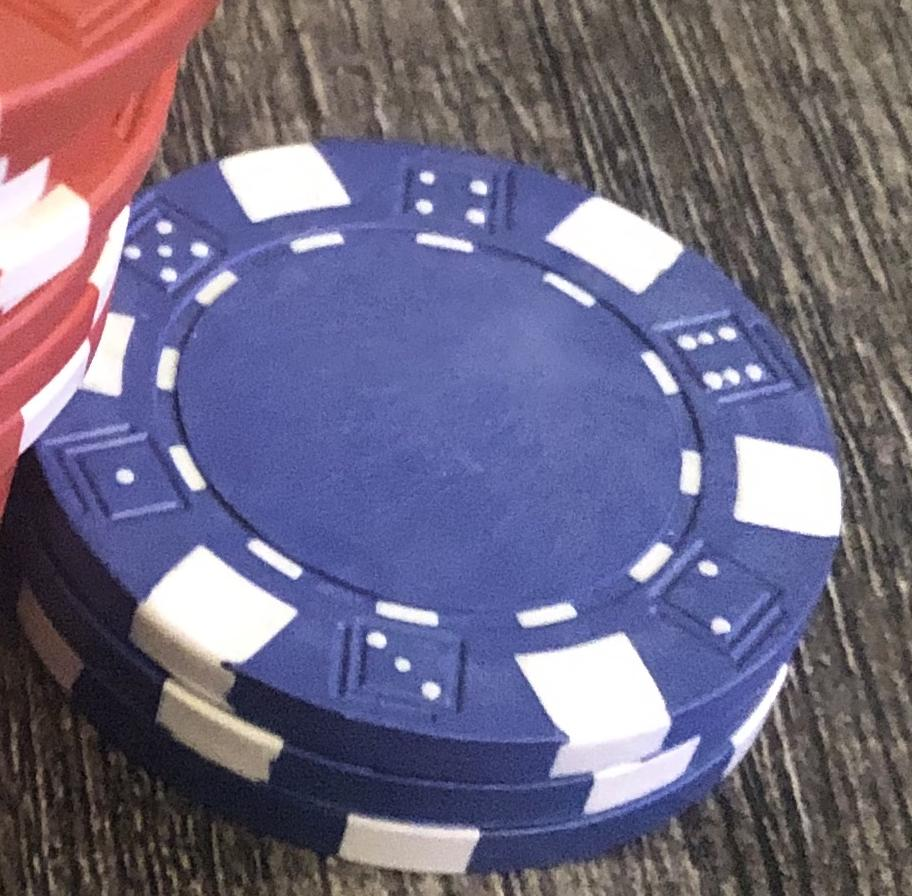Chip: (1, 1, 912, 896)
